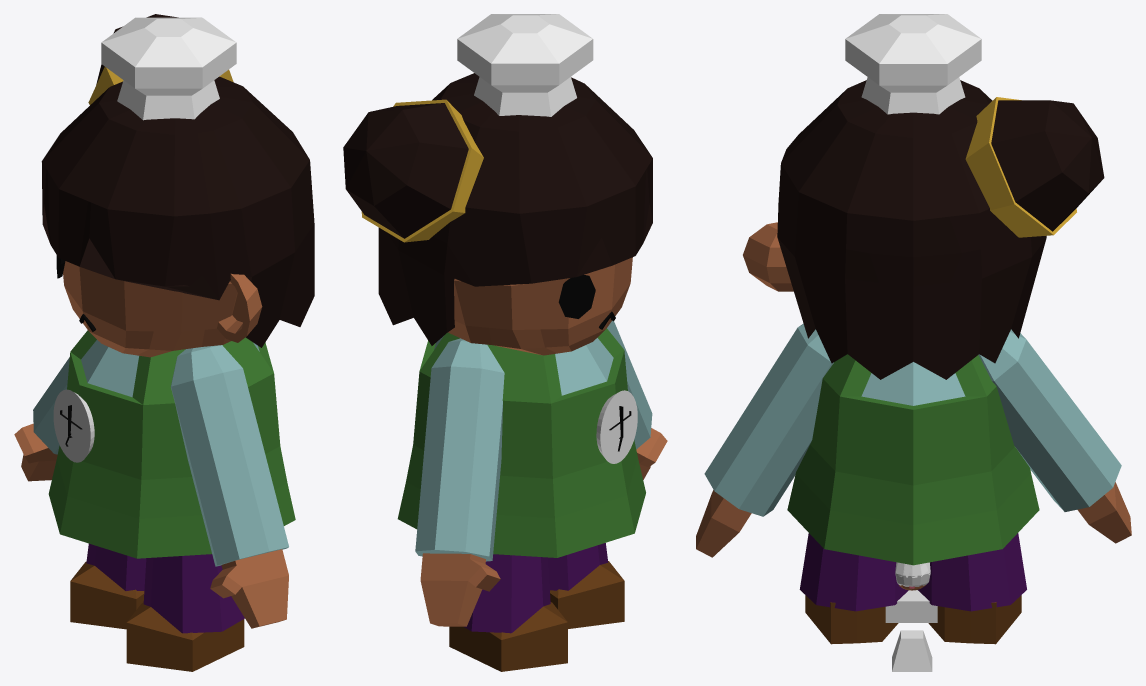
The model's file is vetnum_model_before_figure_20260625.glb.
3 renders of one model, left to right at view 1: azimuth 30°, elevation 25°; view 2: azimuth 150°, elevation 25°; view 3: azimuth 270°, elevation 25°, orthographic.
Visible parts, largest first — view 1: hear, body, arm_left, hat, head, leg_left, foot_left, hand_left, foot_right, ear1, leg_right, hand_right (+2 smaller); view 2: hear, body, arm_right, ponpon, hat, head, foot_right, leg_right, hand_right, foot_left, ponpon.001, leg_left (+3 smaller); view 3: hear, body, arm_left, arm_right, hat, ponpon, leg_right, leg_left, ponpon.001, foot_right, foot_left, ear1 (+4 smaller).
Part boxes in pixels (x1=…): hear: x1=41, y1=76, x2=314, y2=347; body: x1=48, y1=330, x2=295, y2=558; arm_left: x1=171, y1=345, x2=288, y2=566; hat: x1=101, y1=17, x2=236, y2=120; head: x1=63, y1=261, x2=237, y2=357; leg_left: x1=143, y1=554, x2=244, y2=633; foot_left: x1=126, y1=602, x2=244, y2=671; hand_left: x1=210, y1=549, x2=288, y2=628; foot_right: x1=70, y1=561, x2=144, y2=629; ear1: x1=217, y1=273, x2=262, y2=342; leg_right: x1=86, y1=543, x2=146, y2=590; hand_right: x1=14, y1=423, x2=57, y2=481; hear: x1=378, y1=73, x2=652, y2=345; body: x1=397, y1=328, x2=645, y2=557; arm_right: x1=415, y1=338, x2=504, y2=561; ponpon: x1=343, y1=103, x2=468, y2=238; hat: x1=457, y1=14, x2=593, y2=116; head: x1=448, y1=257, x2=632, y2=355; foot_right: x1=449, y1=602, x2=567, y2=671; leg_right: x1=464, y1=554, x2=550, y2=633; hand_right: x1=420, y1=553, x2=500, y2=626; foot_left: x1=550, y1=561, x2=624, y2=628; ponpon.001: x1=361, y1=99, x2=483, y2=242; leg_left: x1=548, y1=543, x2=607, y2=590; hear: x1=777, y1=80, x2=1046, y2=379; body: x1=787, y1=354, x2=1039, y2=565; arm_left: x1=704, y1=323, x2=833, y2=516; arm_right: x1=978, y1=329, x2=1121, y2=511; hat: x1=845, y1=14, x2=981, y2=114; ponpon: x1=991, y1=100, x2=1104, y2=231; leg_right: x1=918, y1=533, x2=1026, y2=611; leg_left: x1=799, y1=533, x2=908, y2=611; ponpon.001: x1=965, y1=97, x2=1076, y2=237; foot_right: x1=928, y1=595, x2=1021, y2=644; foot_left: x1=805, y1=595, x2=898, y2=644; ear1: x1=743, y1=222, x2=793, y2=291.
Bounding box in the file's own units: 30.88 × 77.46 × 48.36.
